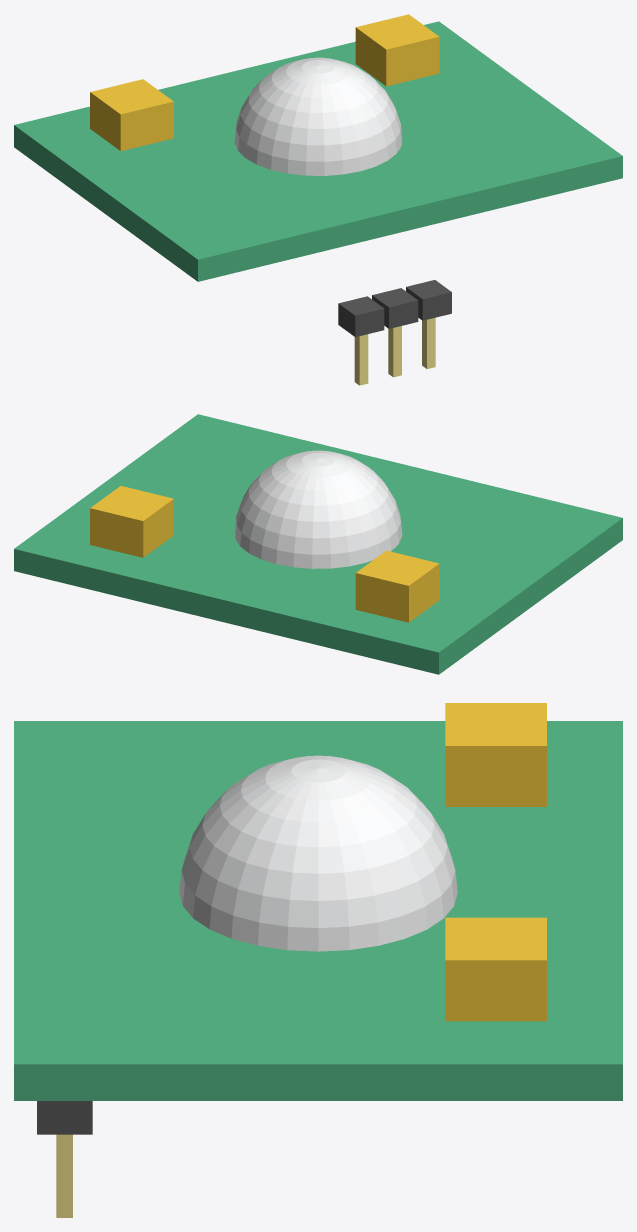
Rendered from pir-motion-sensor.glb.
3 renders of one model, top to bottom at view 1: azimuth 30°, elevation 25°; view 2: azimuth 150°, elevation 25°; view 3: azimuth 270°, elevation 25°, orthographic. The views are drawn at different scales.
Parts seen in each view (by area): view 1: pir-sensor-hc-sr501_mesh; view 2: pir-sensor-hc-sr501_mesh; view 3: pir-sensor-hc-sr501_mesh.
Part boxes in pixels (<box>): pir-sensor-hc-sr501_mesh: <box>14,14,622,385</box>; pir-sensor-hc-sr501_mesh: <box>14,414,622,674</box>; pir-sensor-hc-sr501_mesh: <box>14,703,622,1217</box>.
Bounding box in the file's own units: 32 × 18.2 × 24.
